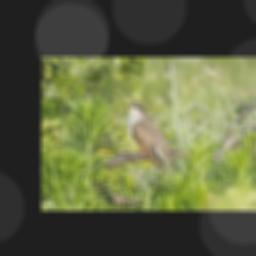Cuckoo: (124, 102, 173, 175)
